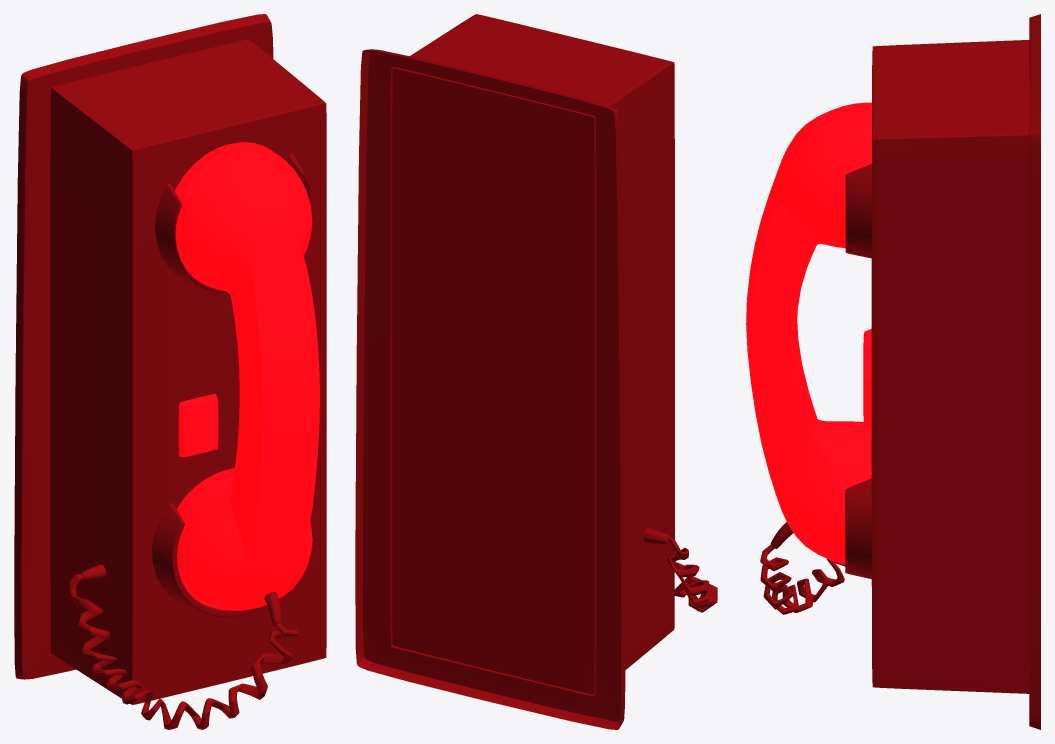
The model's file is wallPhone.glb.
3 views of the same model, side by side, from view 1: azimuth 30°, elevation 25°; view 2: azimuth 150°, elevation 25°; view 3: azimuth 270°, elevation 25° (orthographic). The views are drawn at different scales.
Parts seen in each view (by area): view 1: defaultMaterial.011, defaultMaterial.013, defaultMaterial.012, defaultMaterial.009, defaultMaterial.014, defaultMaterial.010; view 2: defaultMaterial.012, defaultMaterial.011, defaultMaterial.009; view 3: defaultMaterial.011, defaultMaterial.013, defaultMaterial.012, defaultMaterial.009, defaultMaterial.014.
Boxes of the visible parts, x1,y1,x2,y2 form: defaultMaterial.011: [50, 39, 326, 704]; defaultMaterial.013: [175, 142, 319, 610]; defaultMaterial.012: [14, 14, 313, 679]; defaultMaterial.009: [69, 574, 298, 729]; defaultMaterial.014: [178, 394, 218, 457]; defaultMaterial.010: [80, 564, 281, 625]; defaultMaterial.012: [355, 49, 625, 729]; defaultMaterial.011: [390, 14, 674, 695]; defaultMaterial.009: [666, 537, 717, 612]; defaultMaterial.011: [871, 40, 1029, 693]; defaultMaterial.013: [746, 102, 871, 564]; defaultMaterial.012: [845, 14, 1040, 729]; defaultMaterial.009: [760, 545, 845, 614]; defaultMaterial.014: [863, 329, 871, 430].
Bounding box in the file's own units: 2.2 × 4.78 × 2.12.
